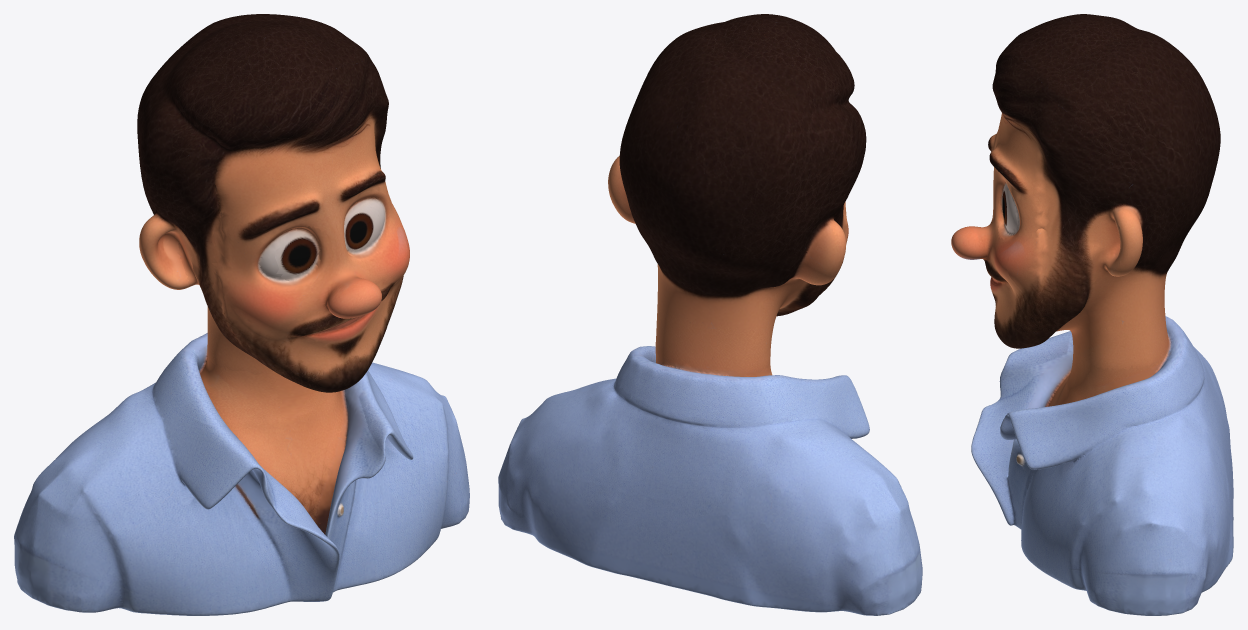
The model's file is mohammad-character.obj.
3 renders of one model, left to right at view 1: azimuth 30°, elevation 25°; view 2: azimuth 150°, elevation 25°; view 3: azimuth 270°, elevation 25°, orthographic. The views are drawn at different scales.
Visible parts, largest first — view 1: Shirt_Torso, Head_Face, Hair_SweptCap, Shirt_Collar, Neck_and_Chest, Ear_Left, Eye_Left_Surface, Eye_Right_Surface, Beard_and_Moustache, Eyebrows; view 2: Shirt_Torso, Hair_SweptCap, Head_Face, Shirt_Collar, Neck_and_Chest, Ear_Left; view 3: Shirt_Torso, Hair_SweptCap, Head_Face, Shirt_Collar, Ear_Right, Neck_and_Chest, Eye_Right_Surface.
Part boxes in pixels (bbox=[...]): Shirt_Torso: bbox=[14, 362, 469, 615]; Head_Face: bbox=[139, 114, 409, 388]; Hair_SweptCap: bbox=[137, 14, 388, 201]; Shirt_Collar: bbox=[120, 370, 413, 536]; Neck_and_Chest: bbox=[155, 346, 368, 534]; Ear_Left: bbox=[139, 204, 217, 299]; Eye_Left_Surface: bbox=[275, 226, 333, 286]; Eye_Right_Surface: bbox=[344, 196, 384, 261]; Beard_and_Moustache: bbox=[283, 291, 388, 392]; Eyebrows: bbox=[243, 172, 385, 239]; Shirt_Torso: bbox=[498, 378, 922, 615]; Hair_SweptCap: bbox=[619, 14, 866, 205]; Head_Face: bbox=[608, 156, 861, 386]; Shirt_Collar: bbox=[574, 375, 869, 528]; Neck_and_Chest: bbox=[616, 346, 827, 423]; Ear_Left: bbox=[808, 204, 846, 285]; Shirt_Torso: bbox=[971, 350, 1233, 615]; Hair_SweptCap: bbox=[989, 14, 1220, 196]; Head_Face: bbox=[951, 113, 1219, 372]; Shirt_Collar: bbox=[974, 333, 1226, 493]; Ear_Right: bbox=[1006, 212, 1120, 318]; Neck_and_Chest: bbox=[1016, 324, 1202, 465]; Eye_Right_Surface: bbox=[998, 182, 1016, 239].
Bounding box in the file's own units: 1.62 × 1.96 × 1.01.
Materials: 11 (11 with a texture image).
